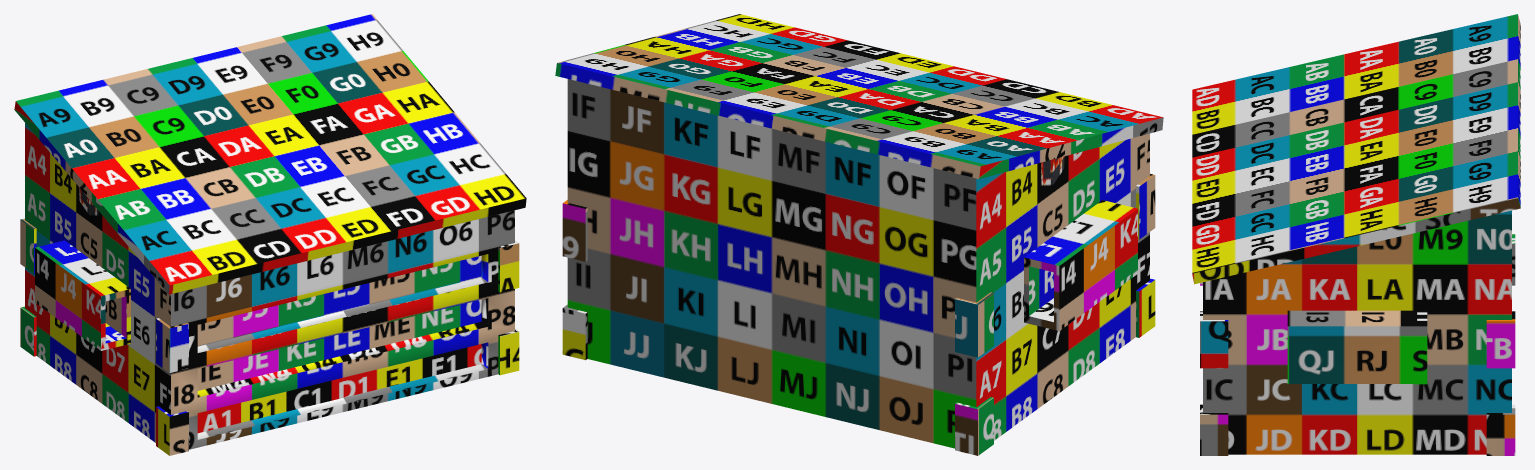
File: dumpster.FBX
The picture shows the model from 3 angles, left to right: view 1: azimuth 30°, elevation 25°; view 2: azimuth 150°, elevation 25°; view 3: azimuth 270°, elevation 25°; orthographic projection. The views are drawn at different scales.
Visible parts, largest first — view 1: dumpster; view 2: dumpster; view 3: dumpster.
Part boxes in pixels (x1,y1,x2,y2): dumpster: [14, 14, 526, 455]; dumpster: [555, 14, 1163, 455]; dumpster: [1192, 14, 1520, 455].
Bounding box in the file's own units: 152 × 88.17 × 101.
Materials: 1 (1 with a texture image).
